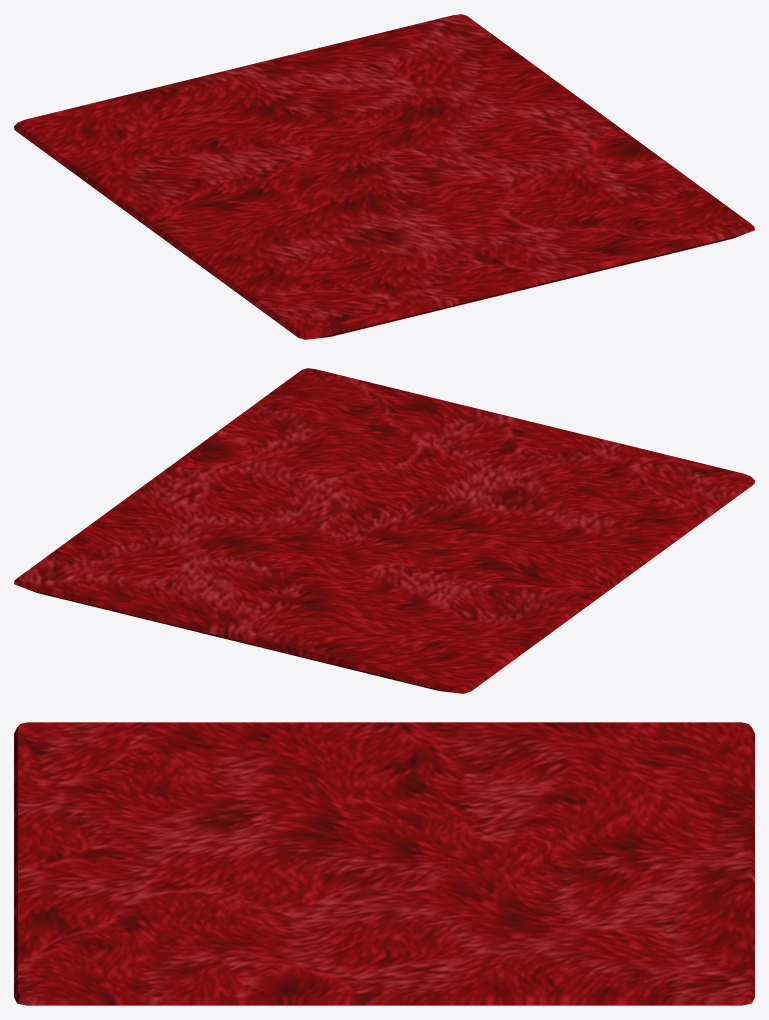
File: Throw_Rug_01.FBX
3 renders of one model, top to bottom at view 1: azimuth 30°, elevation 25°; view 2: azimuth 150°, elevation 25°; view 3: azimuth 270°, elevation 25°, orthographic. The views are drawn at different scales.
Parts seen in each view (by area): view 1: Shag_Carpet; view 2: Shag_Carpet; view 3: Shag_Carpet.
Part boxes in pixels (box(x1,y1,x2,y2)): Shag_Carpet: box(14, 14, 754, 339); Shag_Carpet: box(14, 368, 754, 693); Shag_Carpet: box(14, 722, 754, 1005).
Bounding box in the file's own units: 244 × 3.17 × 273.
